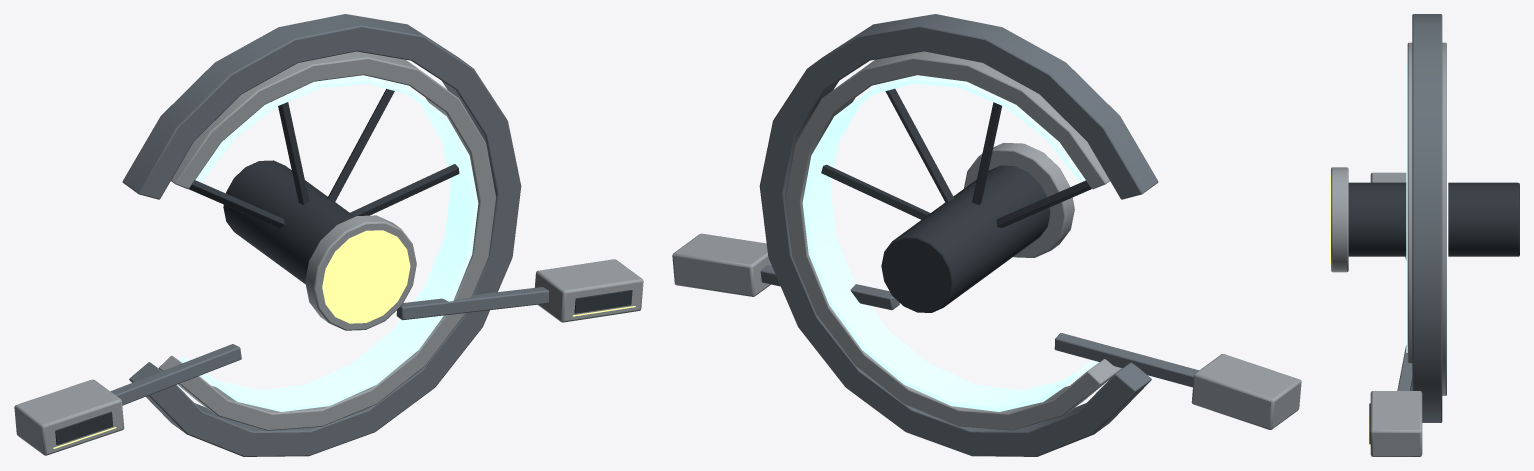
Rendered from QW_HarbourSector_LOD2.fbx.
3 renders of one model, left to right at view 1: azimuth 30°, elevation 25°; view 2: azimuth 150°, elevation 25°; view 3: azimuth 270°, elevation 25°, orthographic. The views are drawn at different scales.
Visible parts, largest first — view 1: QW_HarbourSector_LOD2; view 2: QW_HarbourSector_LOD2; view 3: QW_HarbourSector_LOD2.
Boxes of the visible parts, x1,y1,x2,y2 form: QW_HarbourSector_LOD2: [14, 14, 643, 456]; QW_HarbourSector_LOD2: [672, 14, 1301, 456]; QW_HarbourSector_LOD2: [1330, 14, 1519, 456].
Bounding box in the file's own units: 59.59 × 39.82 × 18.45.
